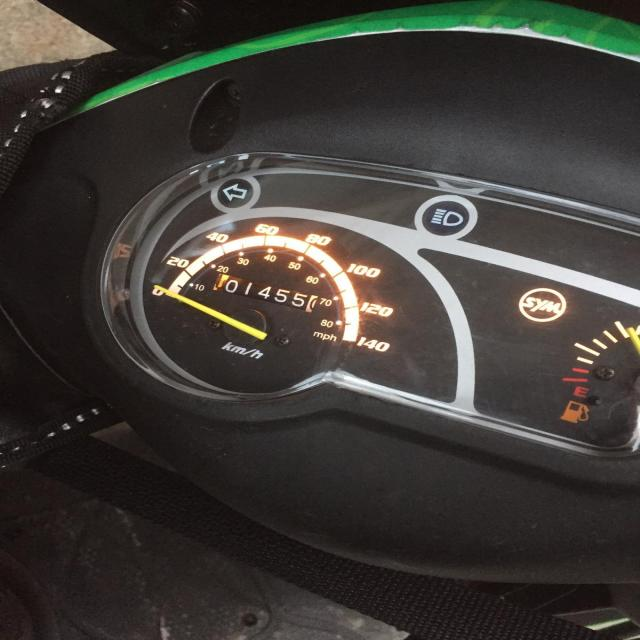odometer: (210, 272, 320, 312)
